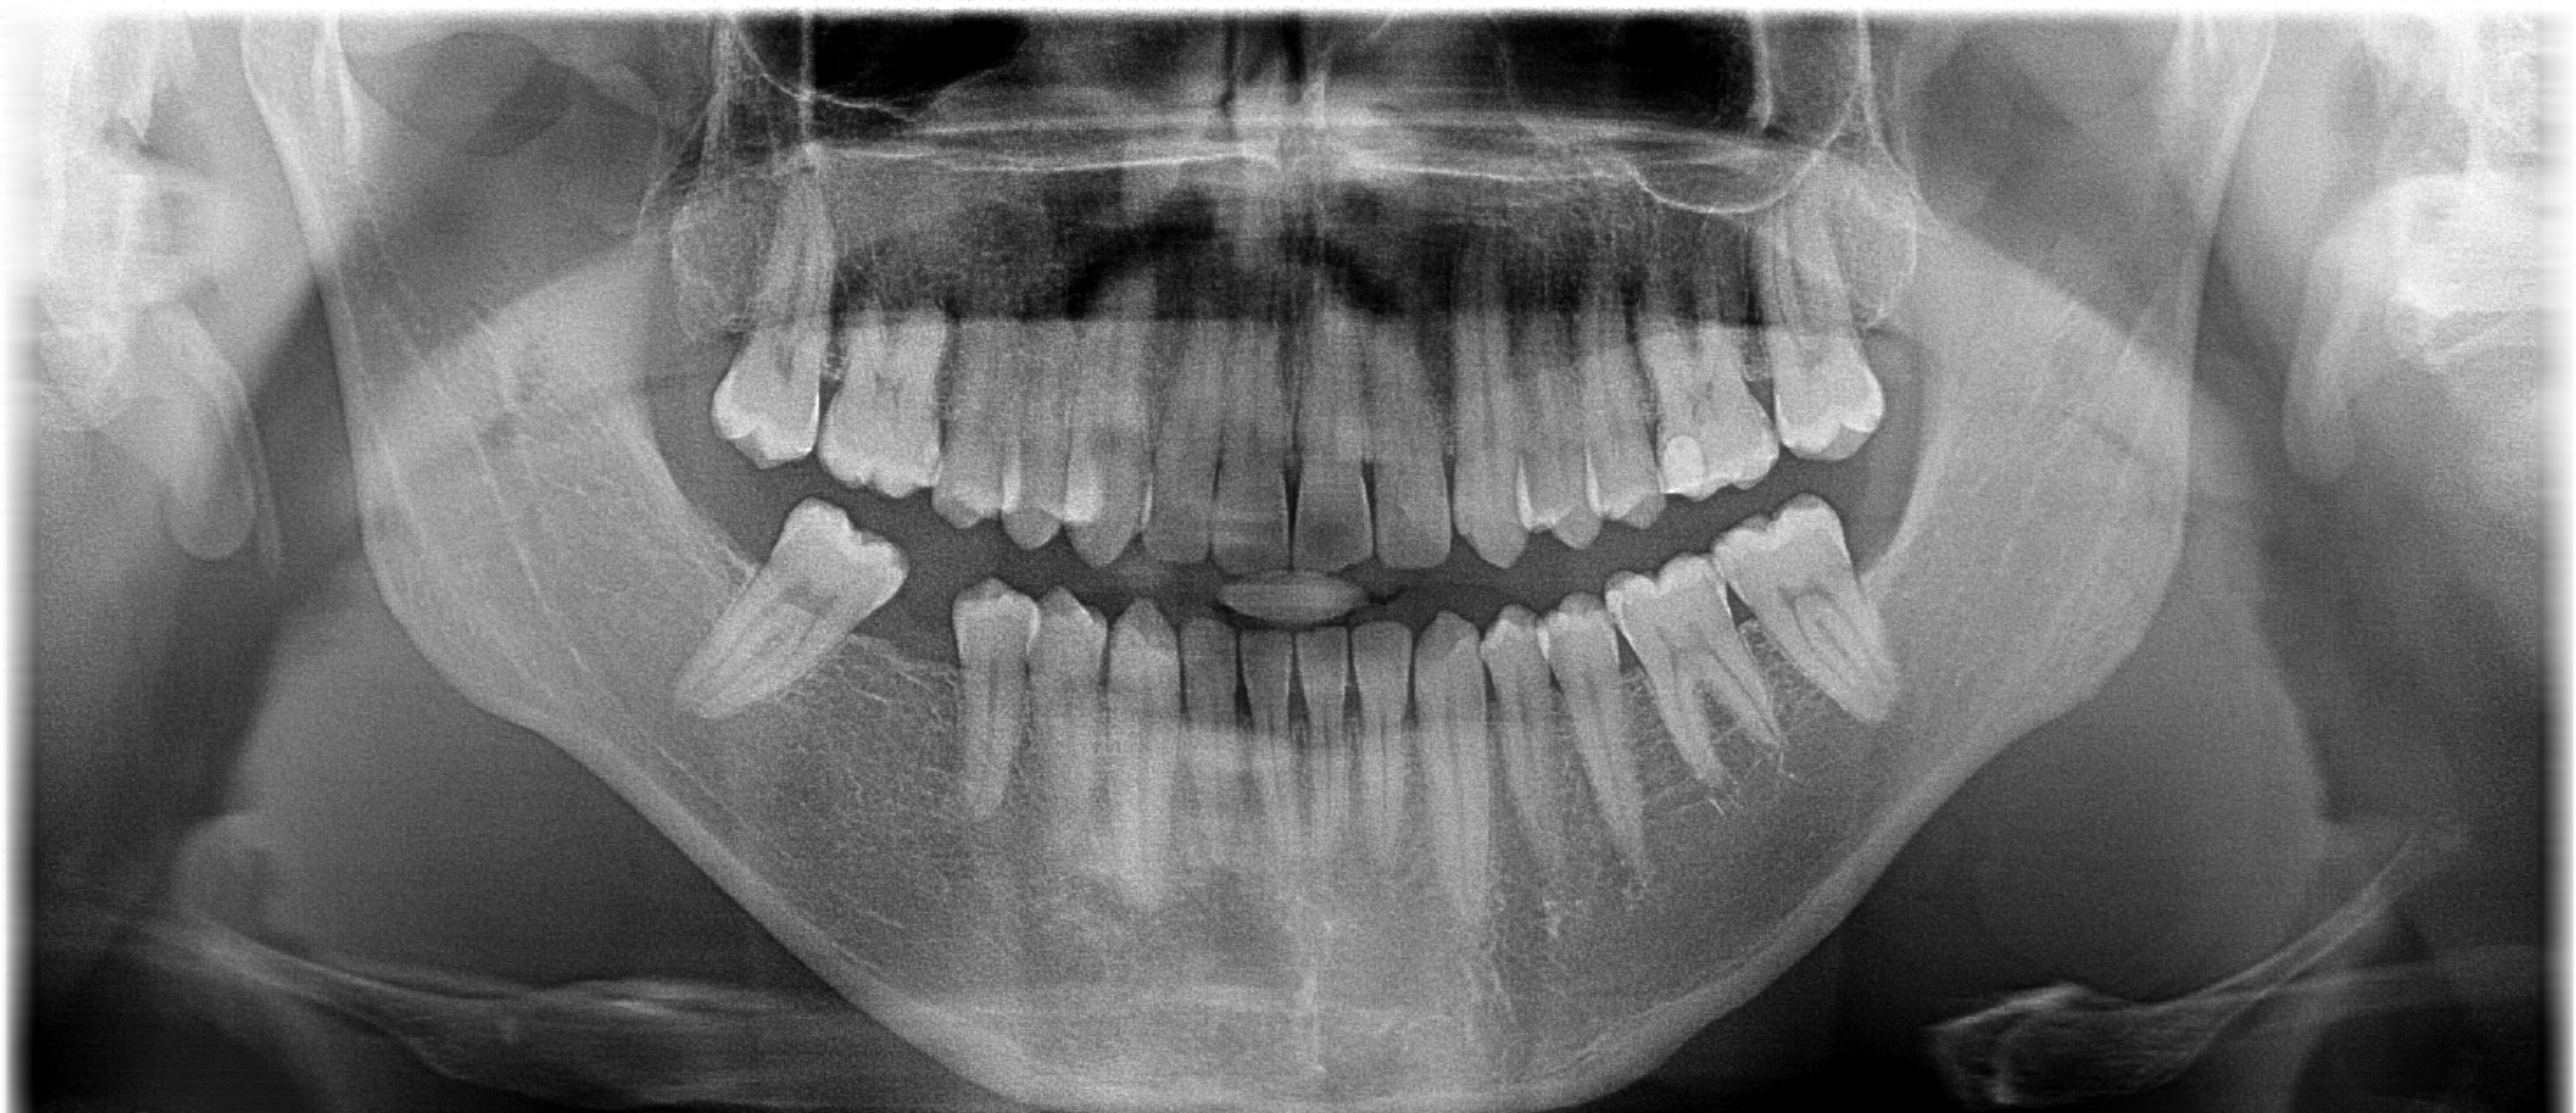zona_dentula: (825, 520, 979, 789)
